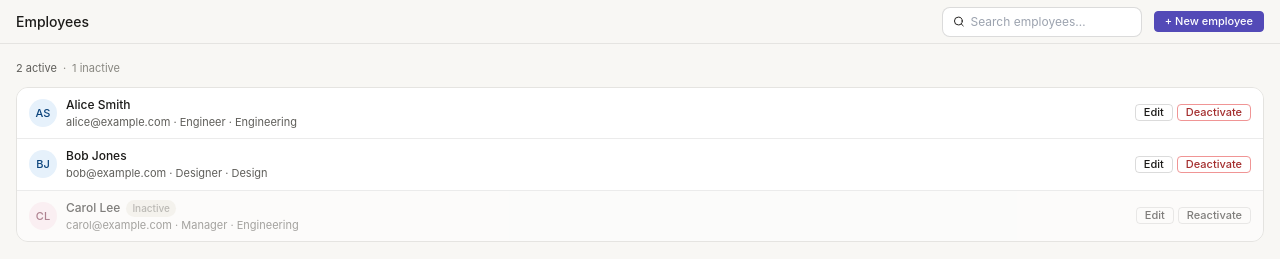
Test: EmployeesPage › filters employees by search query
The width and height of the screenshot is (1280, 259).
Expected: the text "Alice Smith" is shown, [66,96,130,112]
Type "design" into the field with placeholder "Search employees…" at (1051, 22), box [970,12,1131,30]
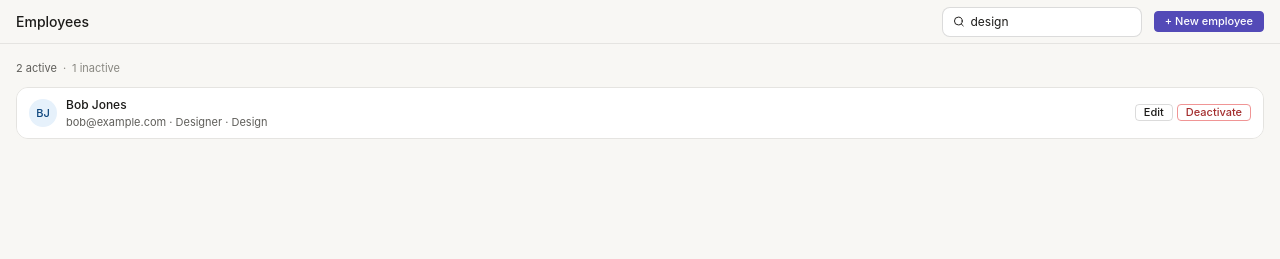
Expected: the text "Bob Jones" is shown, [66,96,127,112]
Expected: the text "Alice Smith" is gone
